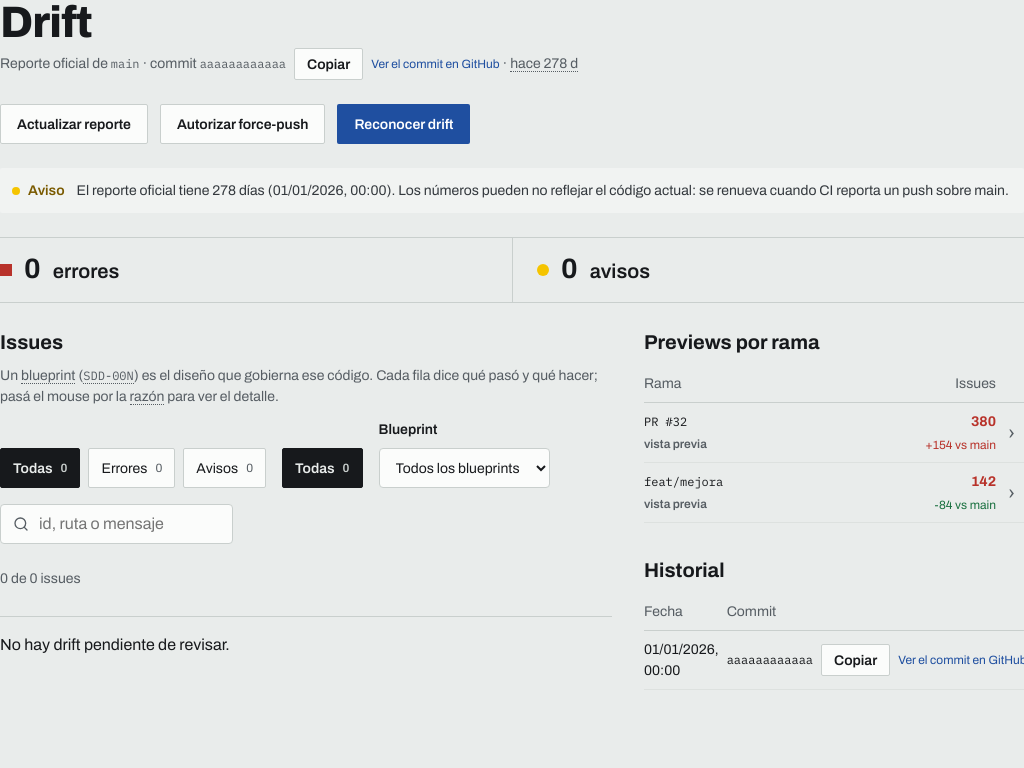
Test case: DriftDashboard · previews por rama montadas (SDD-070 WO-638) › opens the right report detail from a preview row, through the same modal as a history row
Click the button with aria-label "Ver los 380 issues del reporte de PR #32": click(666, 421) [644,403,1023,463]
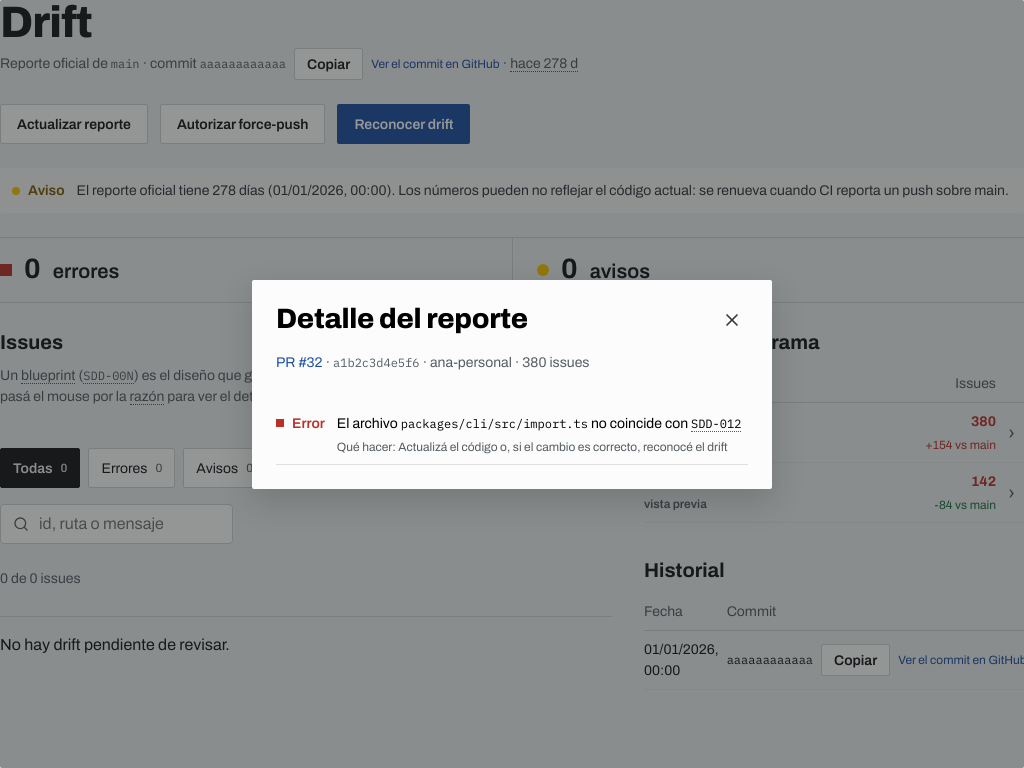
expect the text "PR #32 · a1b2c3d4e5f6 · ana-personal · 380 issues" is shown: met, box [276,354,590,370]
